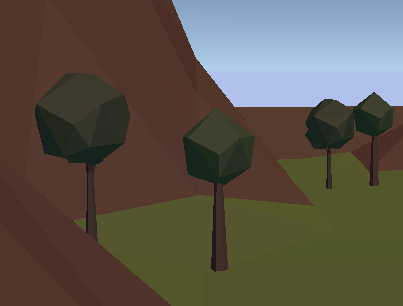tree: (32, 65, 133, 244), (177, 102, 258, 276), (302, 97, 355, 194), (354, 90, 393, 187)
